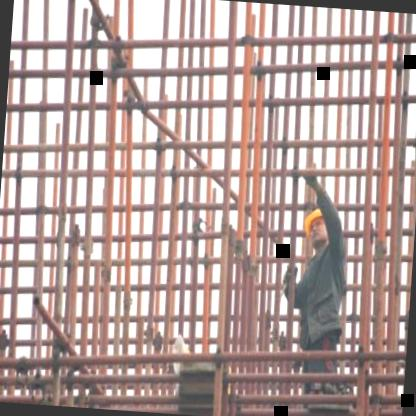helmet: (300, 202, 338, 256)
